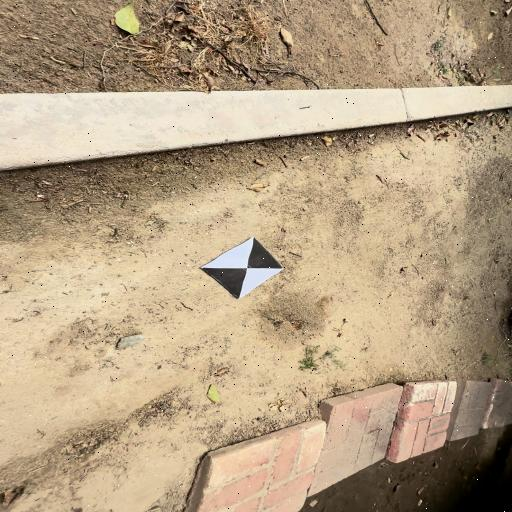target: (201, 237, 284, 298)
